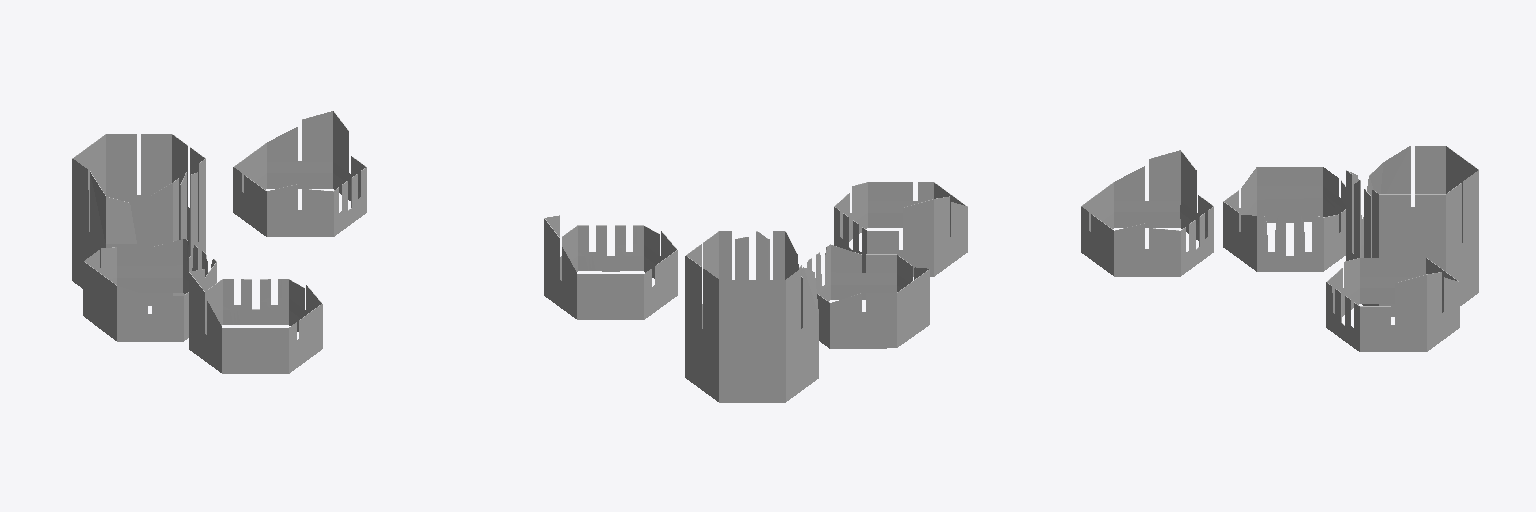
Rendered from courtyardBuildings.obj.
The picture shows the model from 3 angles: view 1: azimuth 30°, elevation 25°; view 2: azimuth 150°, elevation 25°; view 3: azimuth 270°, elevation 25°; orthographic projection.
Parts seen in each view (by area): view 1: courtyardBuildings _Courtyard_Elements polySurface3, polySurface38 courtyardBuildings _Courtyard_Elements, courtyardBuildings _Courtyard_Elements polySurface49, courtyardBuildings _Courtyard_Elements polySurface10; view 2: courtyardBuildings _Courtyard_Elements polySurface3, polySurface38 courtyardBuildings _Courtyard_Elements, courtyardBuildings _Courtyard_Elements polySurface10, courtyardBuildings _Courtyard_Elements polySurface49; view 3: courtyardBuildings _Courtyard_Elements polySurface3, courtyardBuildings _Courtyard_Elements polySurface49, polySurface38 courtyardBuildings _Courtyard_Elements, courtyardBuildings _Courtyard_Elements polySurface10.
Part boxes in pixels (left/top/right/bottom): courtyardBuildings _Courtyard_Elements polySurface3: left=72, top=134, right=205, bottom=305; polySurface38 courtyardBuildings _Courtyard_Elements: left=233, top=111, right=366, bottom=236; courtyardBuildings _Courtyard_Elements polySurface49: left=189, top=269, right=322, bottom=373; courtyardBuildings _Courtyard_Elements polySurface10: left=83, top=239, right=216, bottom=341; courtyardBuildings _Courtyard_Elements polySurface3: left=685, top=231, right=818, bottom=402; polySurface38 courtyardBuildings _Courtyard_Elements: left=544, top=215, right=677, bottom=319; courtyardBuildings _Courtyard_Elements polySurface10: left=799, top=244, right=929, bottom=348; courtyardBuildings _Courtyard_Elements polySurface49: left=834, top=182, right=967, bottom=276; courtyardBuildings _Courtyard_Elements polySurface3: left=1346, top=146, right=1478, bottom=316; courtyardBuildings _Courtyard_Elements polySurface49: left=1081, top=150, right=1213, bottom=276; polySurface38 courtyardBuildings _Courtyard_Elements: left=1326, top=258, right=1459, bottom=351; courtyardBuildings _Courtyard_Elements polySurface10: left=1223, top=167, right=1345, bottom=271.
Size of the model in its own units: 194 by 75.4 by 222.